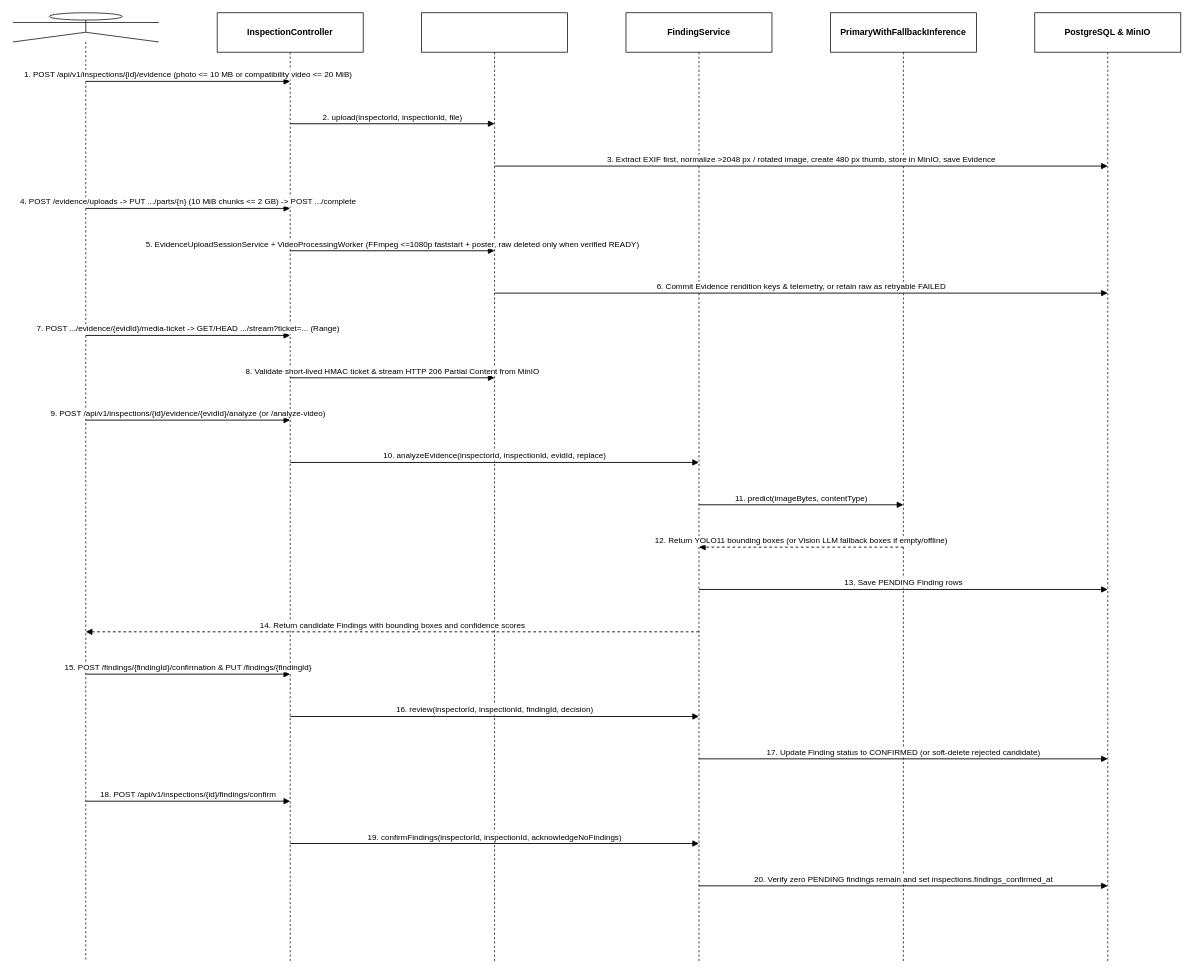
This 1194x975 diagram has some shape labels left out. The shapes that lost their labels are listed below. From the top down, each one's box as (x1, y1, x2, y2) in pixels, then its label:
(12, 12, 159, 962): Assigned Inspector
(421, 12, 568, 962): EvidenceService
